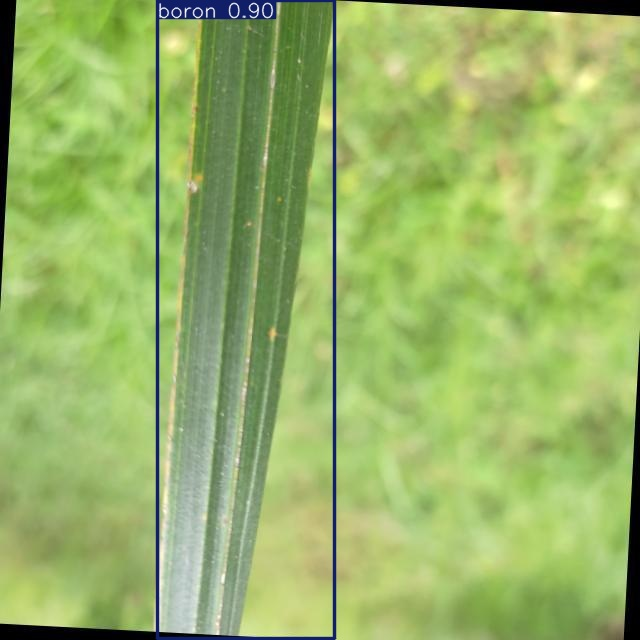nitrogen: (158, 0, 334, 639)
